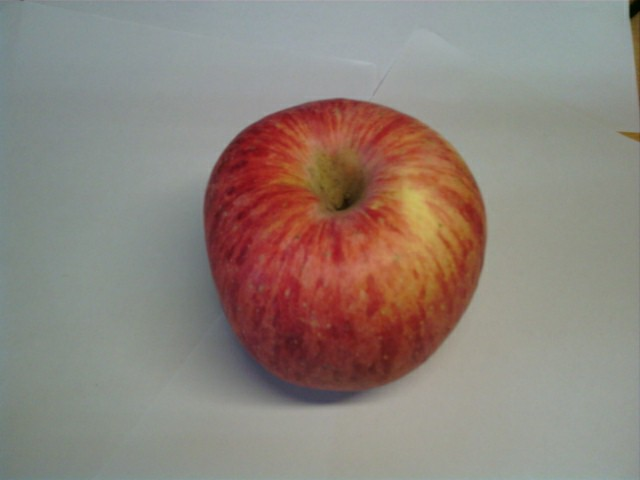normal_apple: (201, 97, 487, 397)
